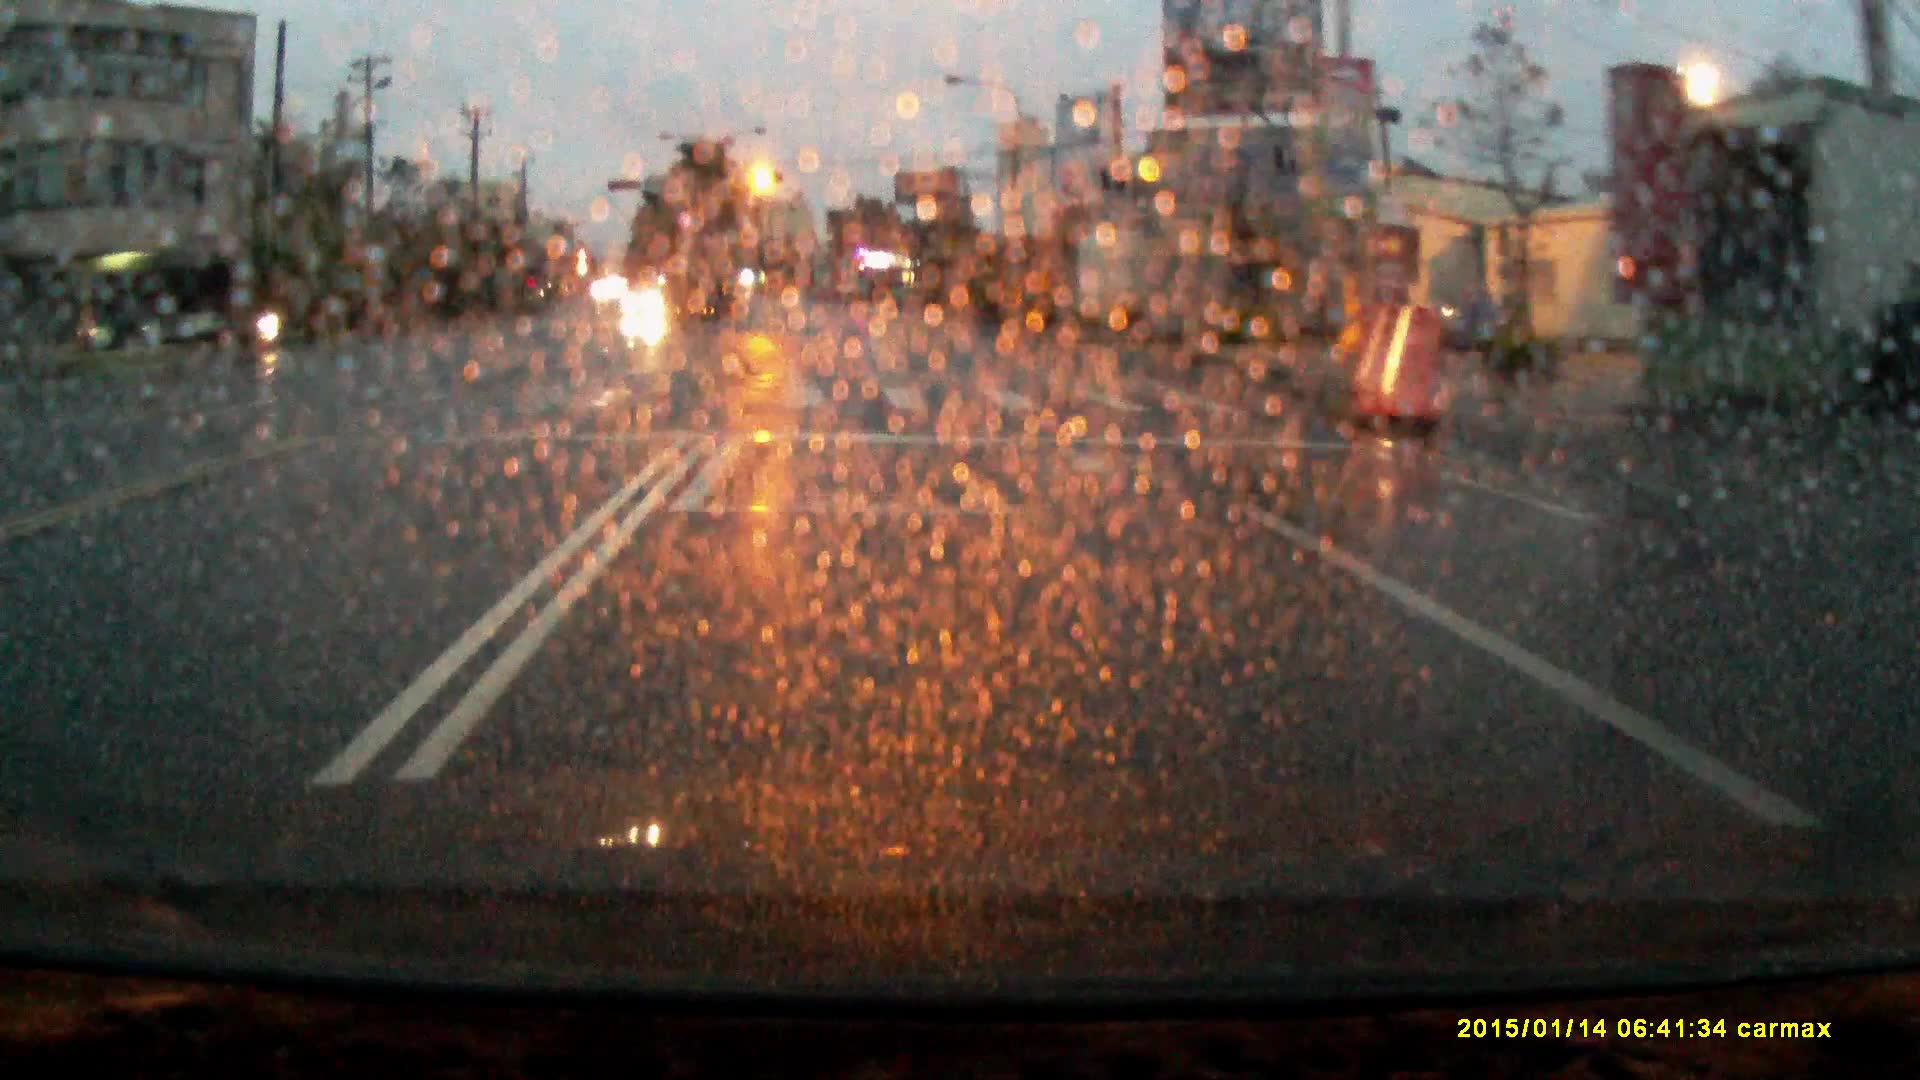rider: (1431, 275, 1501, 347), (253, 281, 290, 361)
vehicle: (621, 286, 667, 316)
